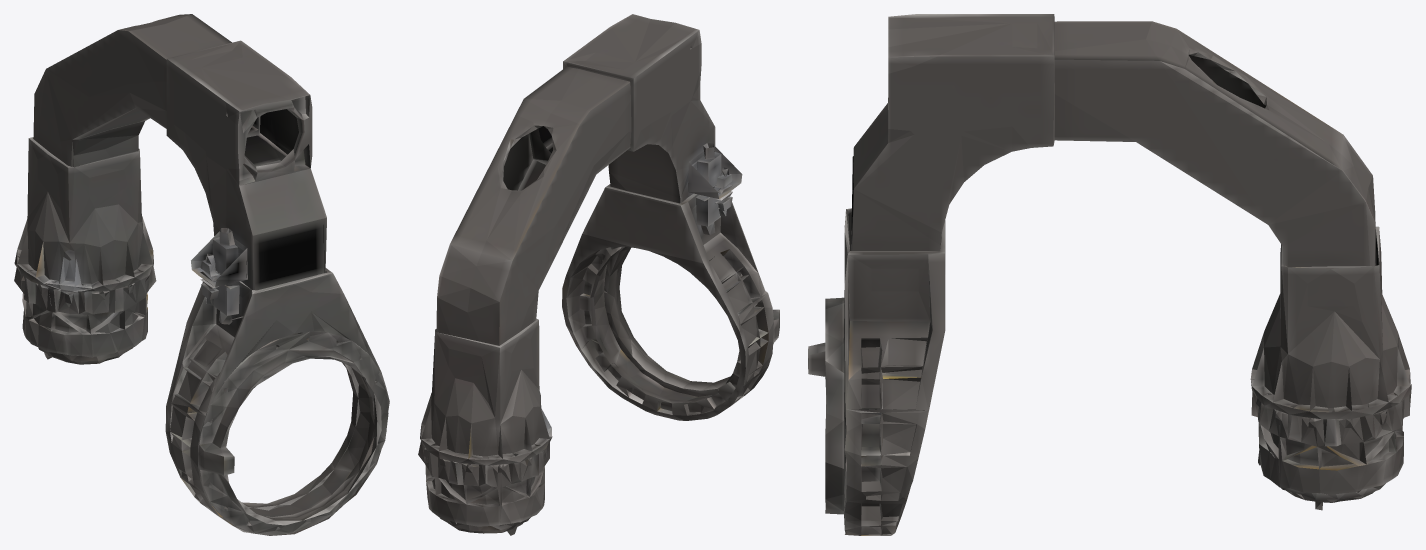
The model's file is Steer_RightRear.gltf.
3 renders of one model, left to right at view 1: azimuth 30°, elevation 25°; view 2: azimuth 150°, elevation 25°; view 3: azimuth 270°, elevation 25°, orthographic. The views are drawn at different scales.
Parts seen in each view (by area): view 1: Mesh_0; view 2: Mesh_0; view 3: Mesh_0.
Part boxes in pixels (<box>): Mesh_0: <box>14,14,389,535</box>; Mesh_0: <box>418,14,779,535</box>; Mesh_0: <box>808,14,1411,535</box>.
Size of the model in its own units: 0.2089 by 0.4329 by 0.4854.
Materials: 1 (1 with a texture image).
